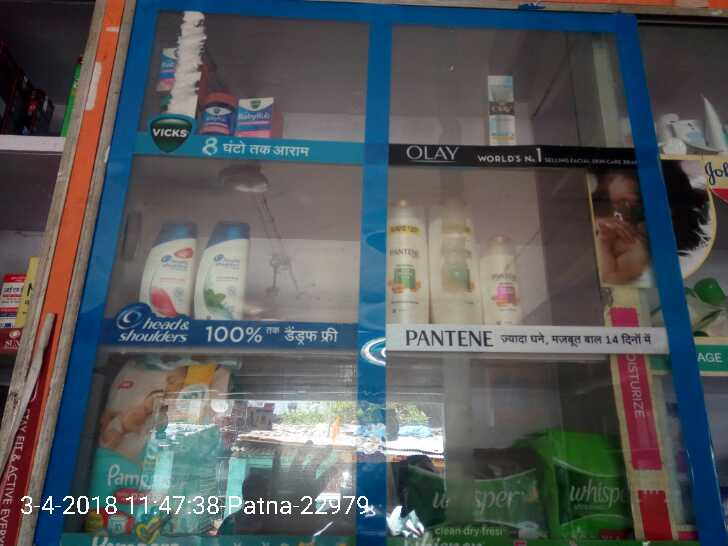vicks: (163, 45, 208, 91), (236, 98, 283, 139), (203, 94, 232, 132)
